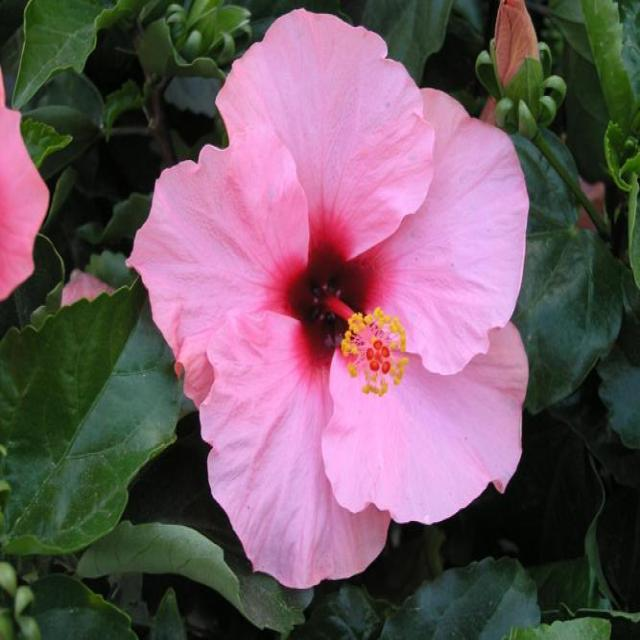hibiscus: (98, 11, 549, 612)
